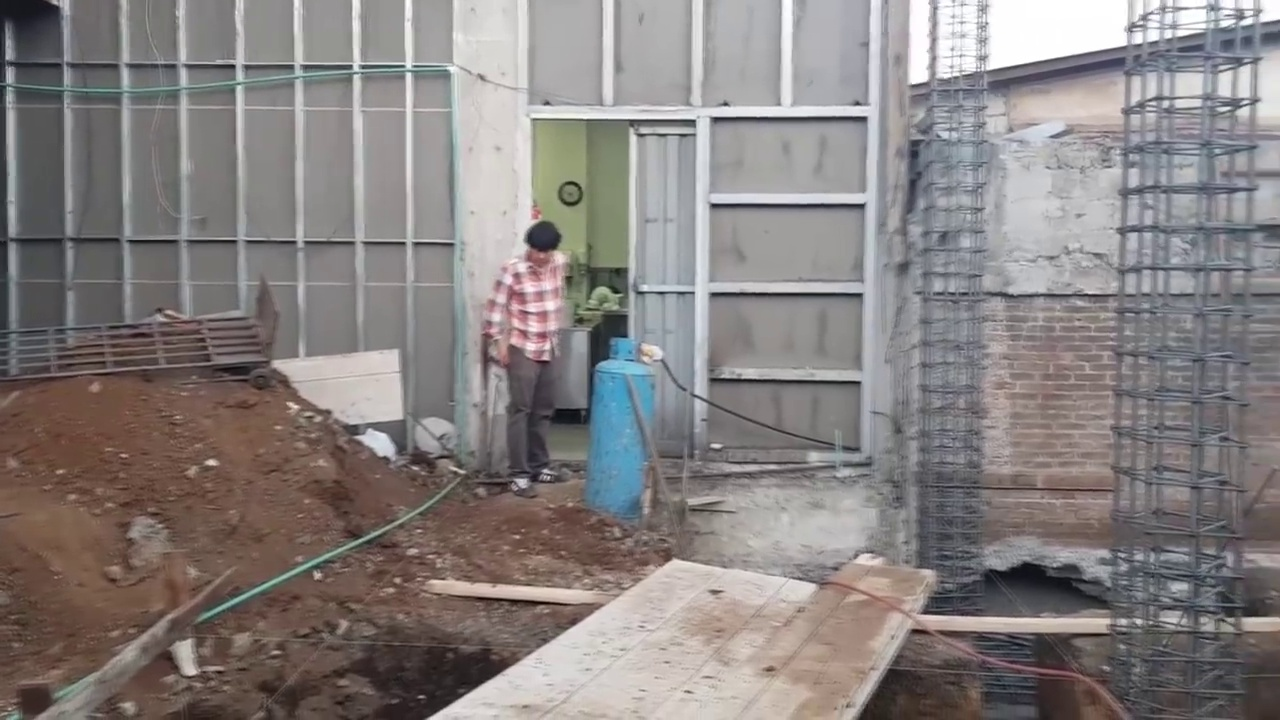helmet-off: (517, 221, 562, 271)
person: (486, 219, 573, 497)
